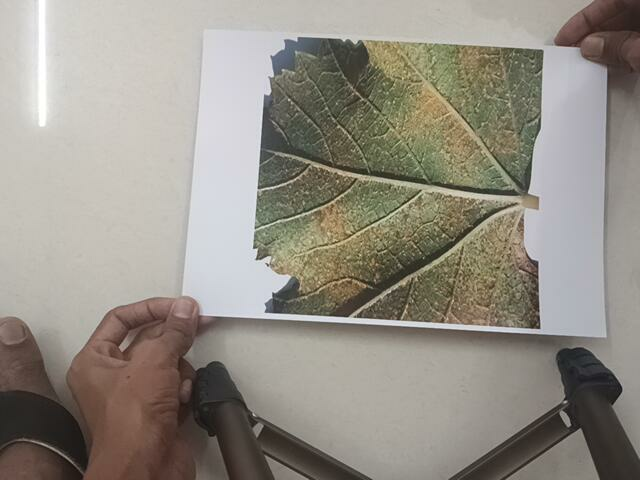Grape_Rust_Fungus: (256, 35, 552, 328)
